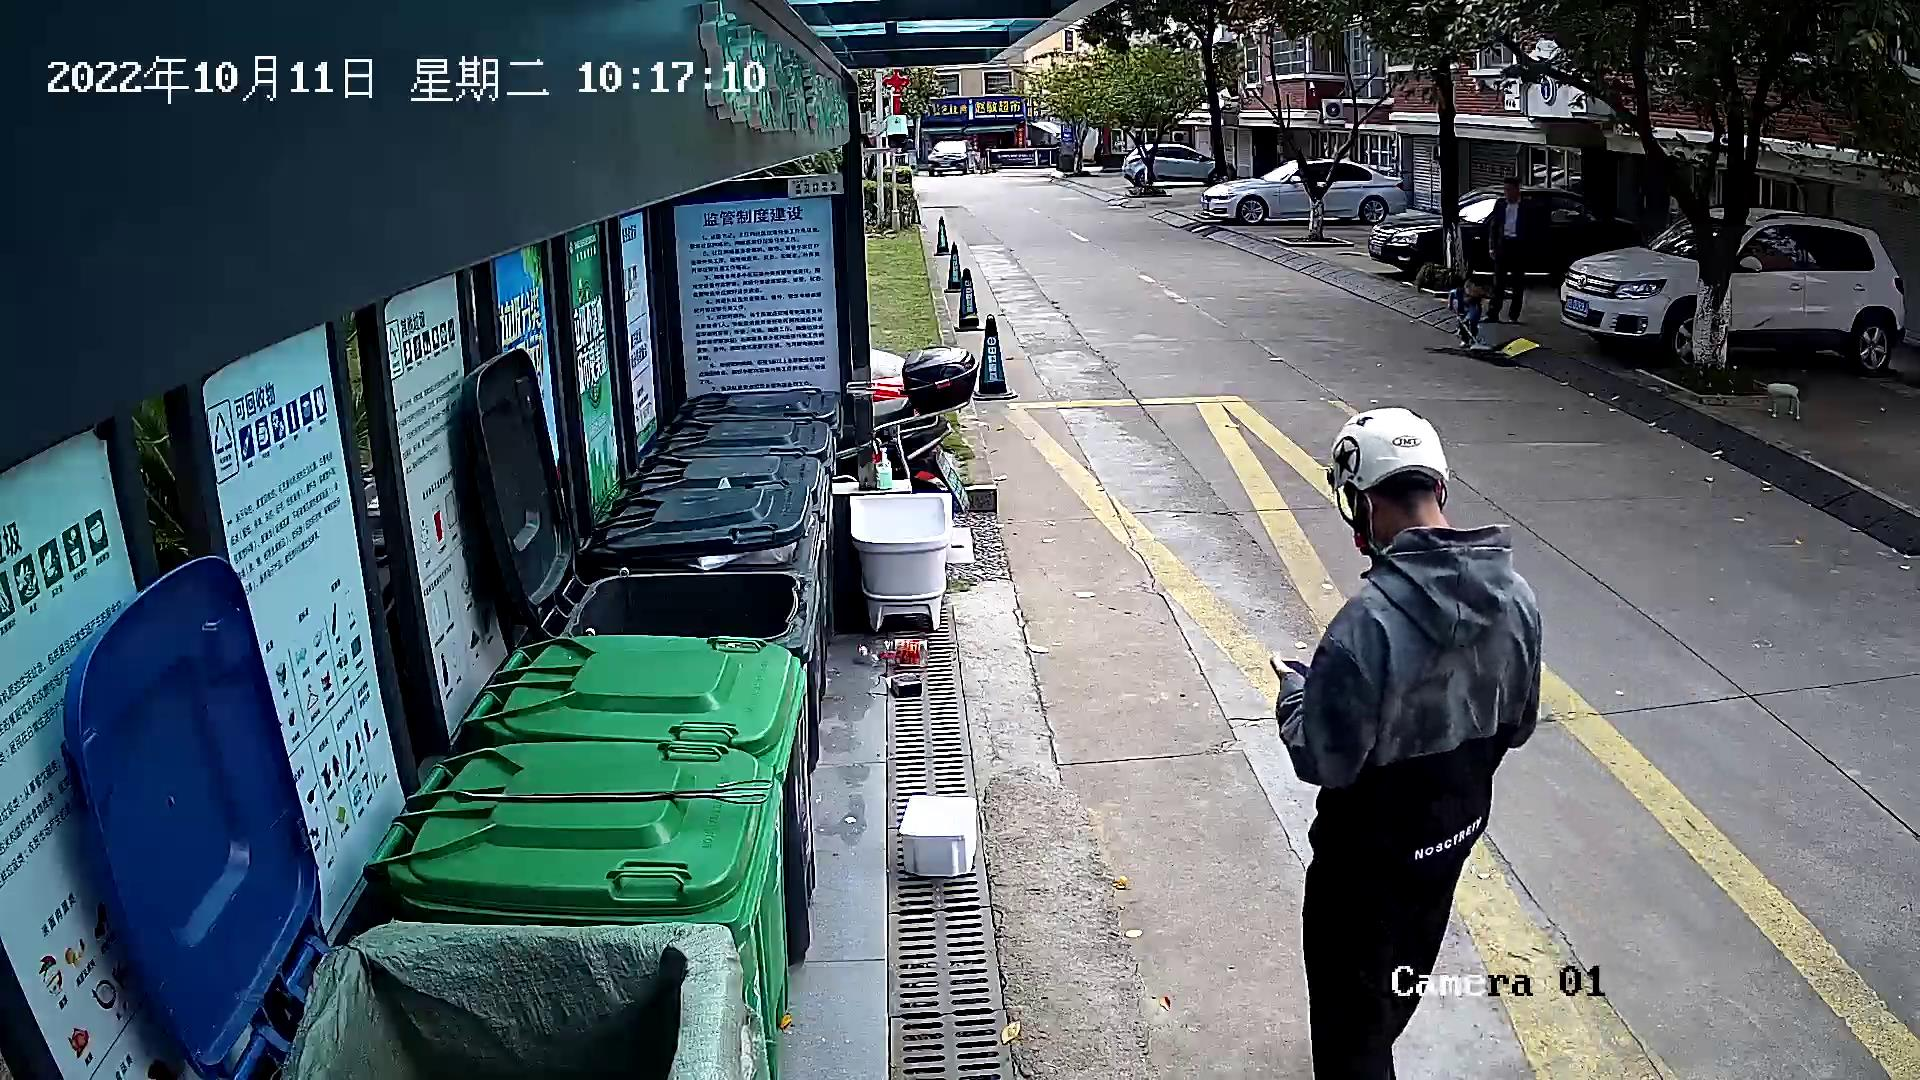paomozhipin: (893, 783, 985, 882)
person: (1266, 396, 1555, 1080)
suliaozhipin: (848, 631, 930, 674)
zhizhipin: (877, 666, 928, 702)
